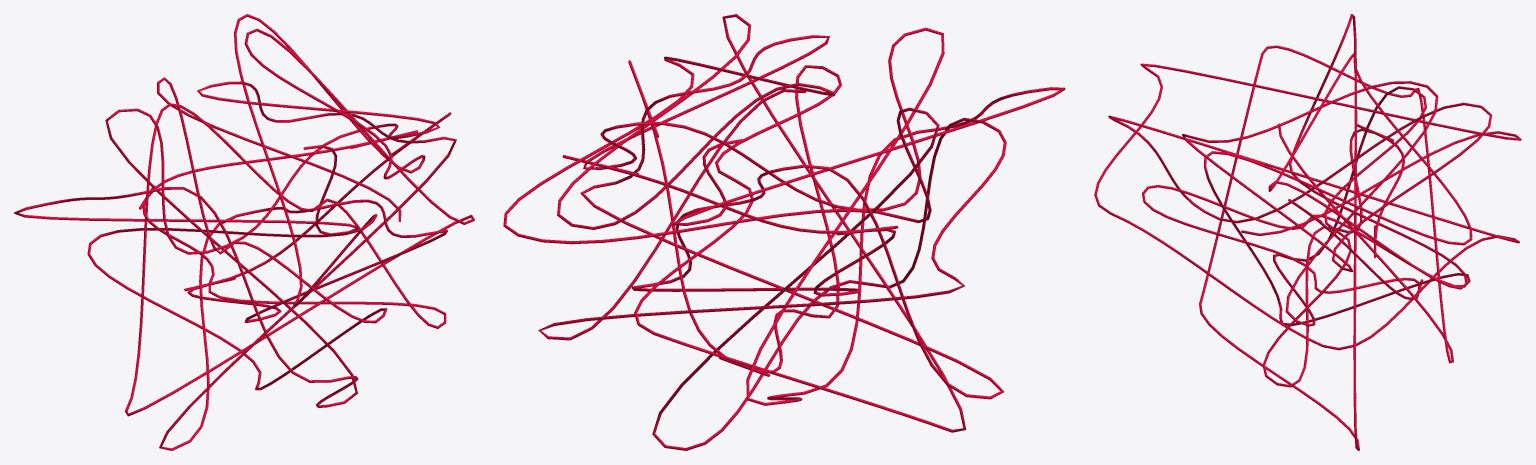
Rendered from plastic_bands.fbx.
3 renders of one model, left to right at view 1: azimuth 30°, elevation 25°; view 2: azimuth 150°, elevation 25°; view 3: azimuth 270°, elevation 25°, orthographic. The views are drawn at different scales.
Visible parts, largest first — view 1: BezierCurve.001, BezierCurve; view 2: BezierCurve, BezierCurve.001; view 3: BezierCurve.001, BezierCurve.
Part boxes in pixels (x1,y1,x2,y2): BezierCurve.001: (87,14,474,416); BezierCurve: (14,81,456,450); BezierCurve: (503,14,1006,450); BezierCurve.001: (562,27,1065,405); BezierCurve.001: (1094,63,1521,387); BezierCurve: (1142,14,1472,450).
Size of the model in its own units: 338 by 289 by 332.
